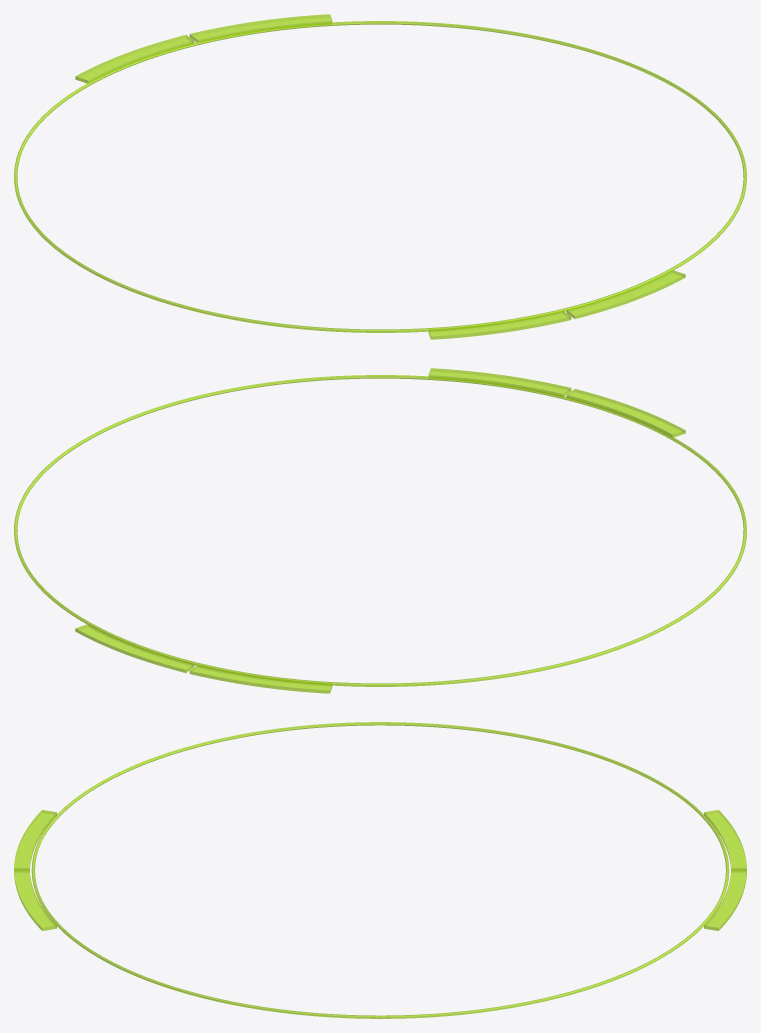
Rendered from gizmoRotateY.fbx.
The picture shows the model from 3 angles, top to bottom: view 1: azimuth 30°, elevation 25°; view 2: azimuth 150°, elevation 25°; view 3: azimuth 270°, elevation 25°; orthographic projection. The views are drawn at different scales.
Parts seen in each view (by area): view 1: gizmoRotateY; view 2: gizmoRotateY; view 3: gizmoRotateY.
Part boxes in pixels (x1,y1,x2,y2): gizmoRotateY: (14,14,746,339); gizmoRotateY: (14,368,746,693); gizmoRotateY: (14,722,746,1018).
Size of the model in its own units: 100 by 0.5 by 106.
